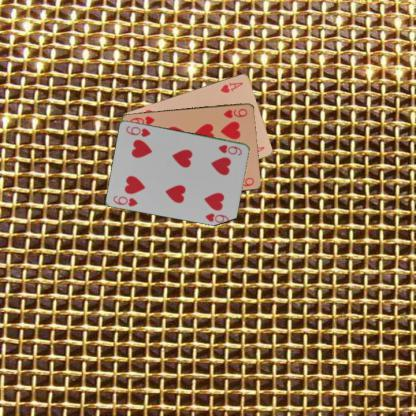6h: (111, 193, 139, 207), (216, 142, 243, 156)
9h: (221, 106, 248, 119)
Ah: (218, 79, 244, 94)
